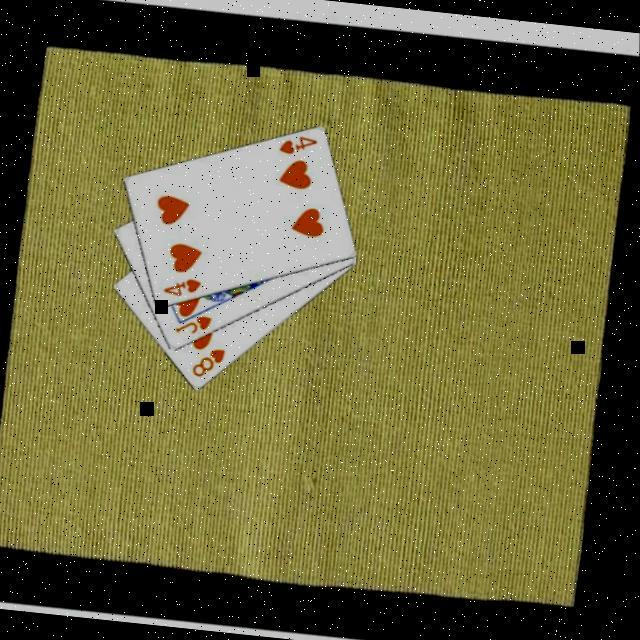4H: (277, 128, 322, 158), (162, 270, 206, 300)
8H: (190, 341, 230, 381)
JH: (172, 308, 216, 338)
